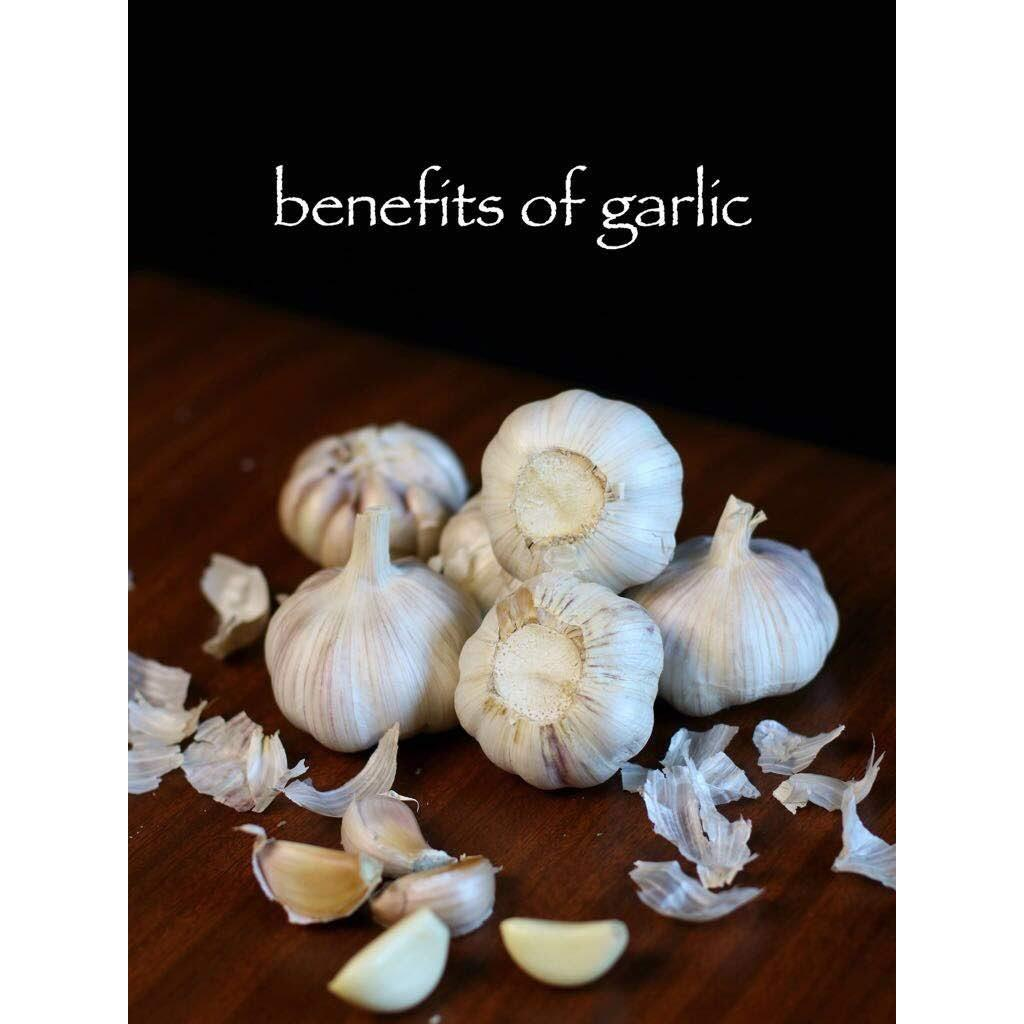garlic: (264, 506, 479, 750), (629, 495, 837, 714), (454, 572, 661, 787), (480, 389, 681, 591), (278, 421, 466, 565), (234, 823, 380, 923), (327, 907, 448, 1011), (624, 856, 765, 925), (499, 917, 627, 985)
